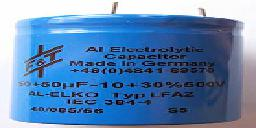Electrolytic Capacitor: (7, 3, 256, 125)
